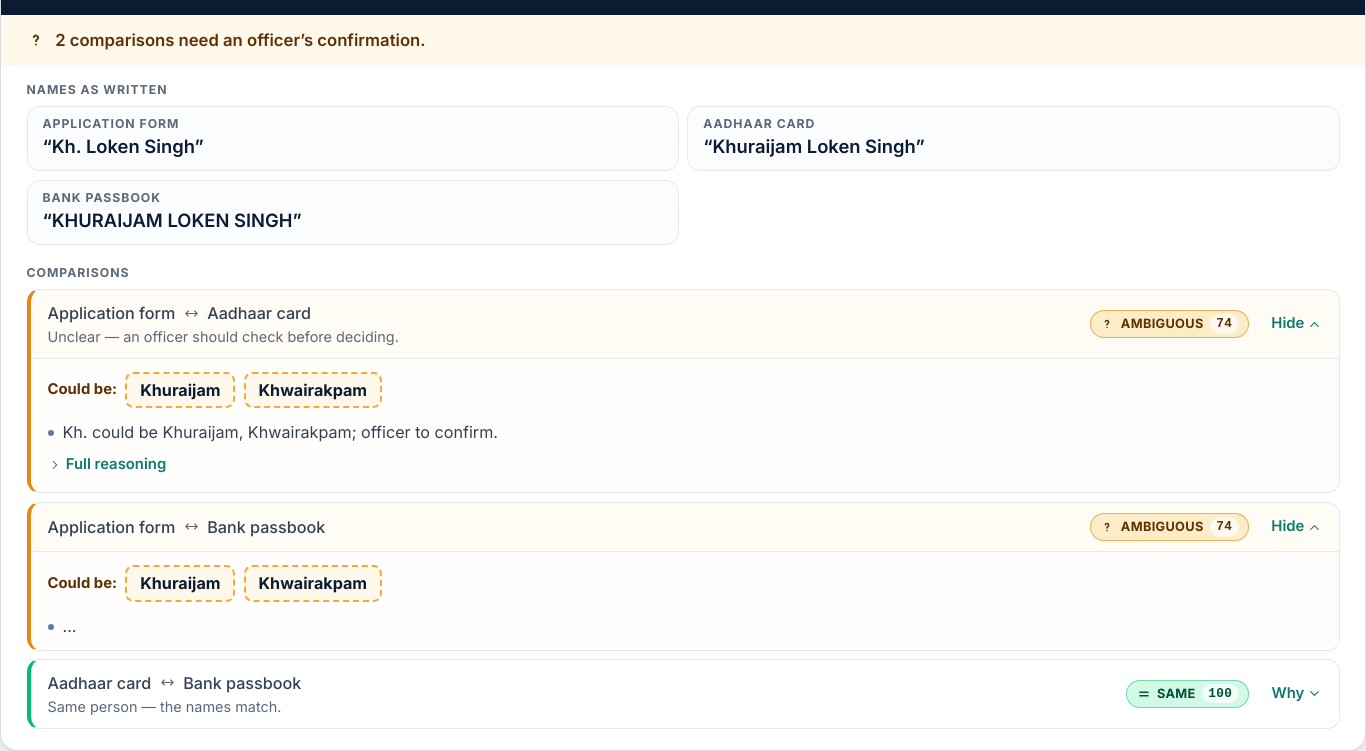
Test: IdentityCard › opens AMBIGUOUS pairs by default with candidate yumnak chips and reasons; SAME pairs on demand
(page scrolled)
Expected: the 1st text "Khuraijam" is shown, top-left (126, 372), bottom-right (235, 408)
Expected: the 1st text "Khwairakpam" is shown, top-left (244, 372), bottom-right (382, 408)
Click the button that starts with "Aadhaar card" at (99, 683), box top-left (30, 660), bottom-right (1338, 728)
(page scrolled)
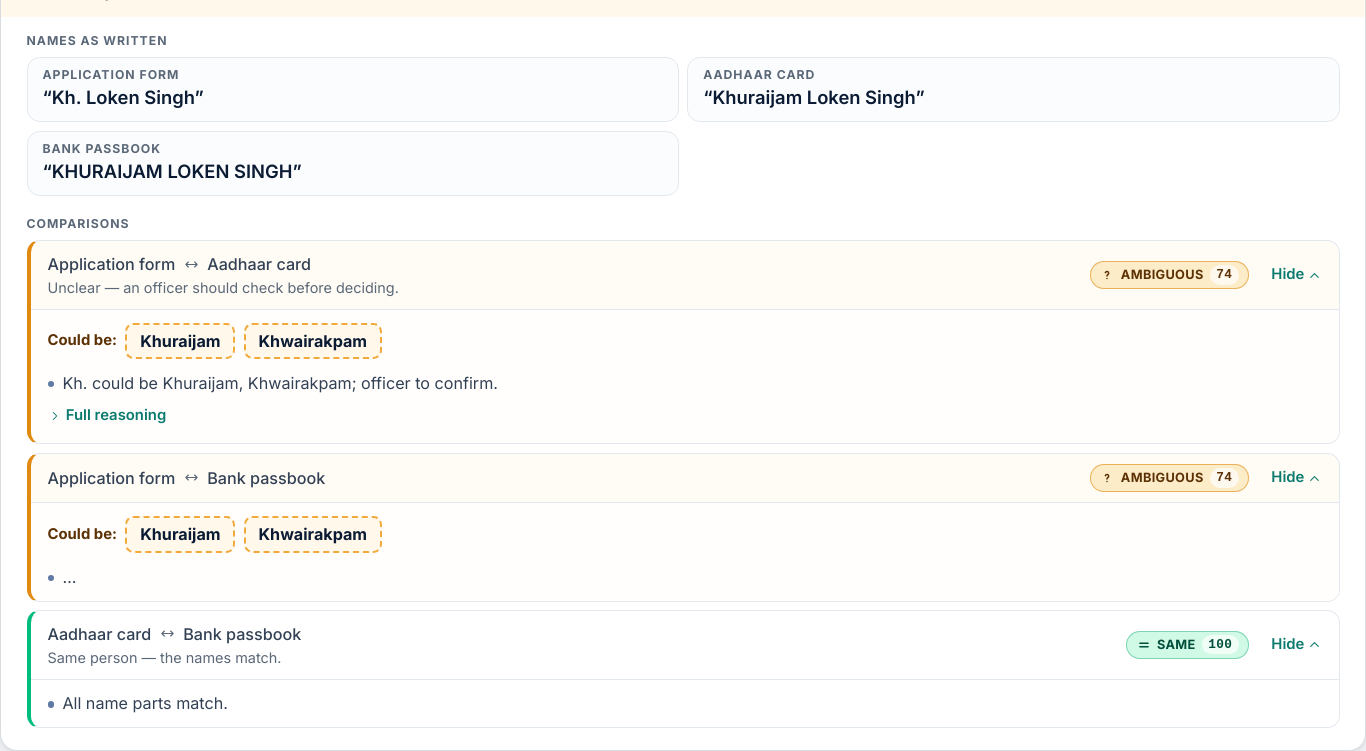
Result: the list item "All name parts match." is shown at top-left (48, 693), bottom-right (228, 713)
